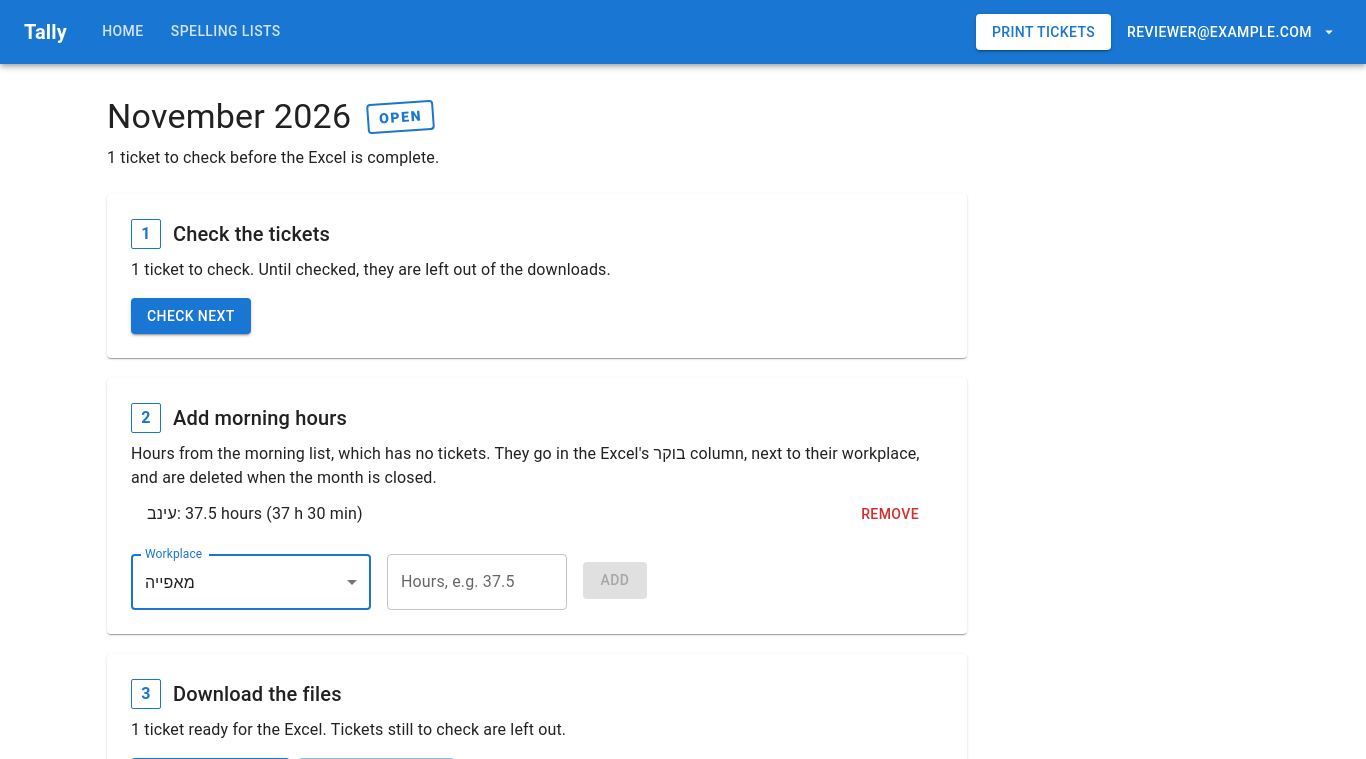
it: the month page › lists the morning hours, adds one for a place, and removes one (D66)
Earlier steps of the test are not shown.
Later steps or results of the test are not shown.
Click the button "Remove".
click(890, 514)  # box 853,496 -> 927,533
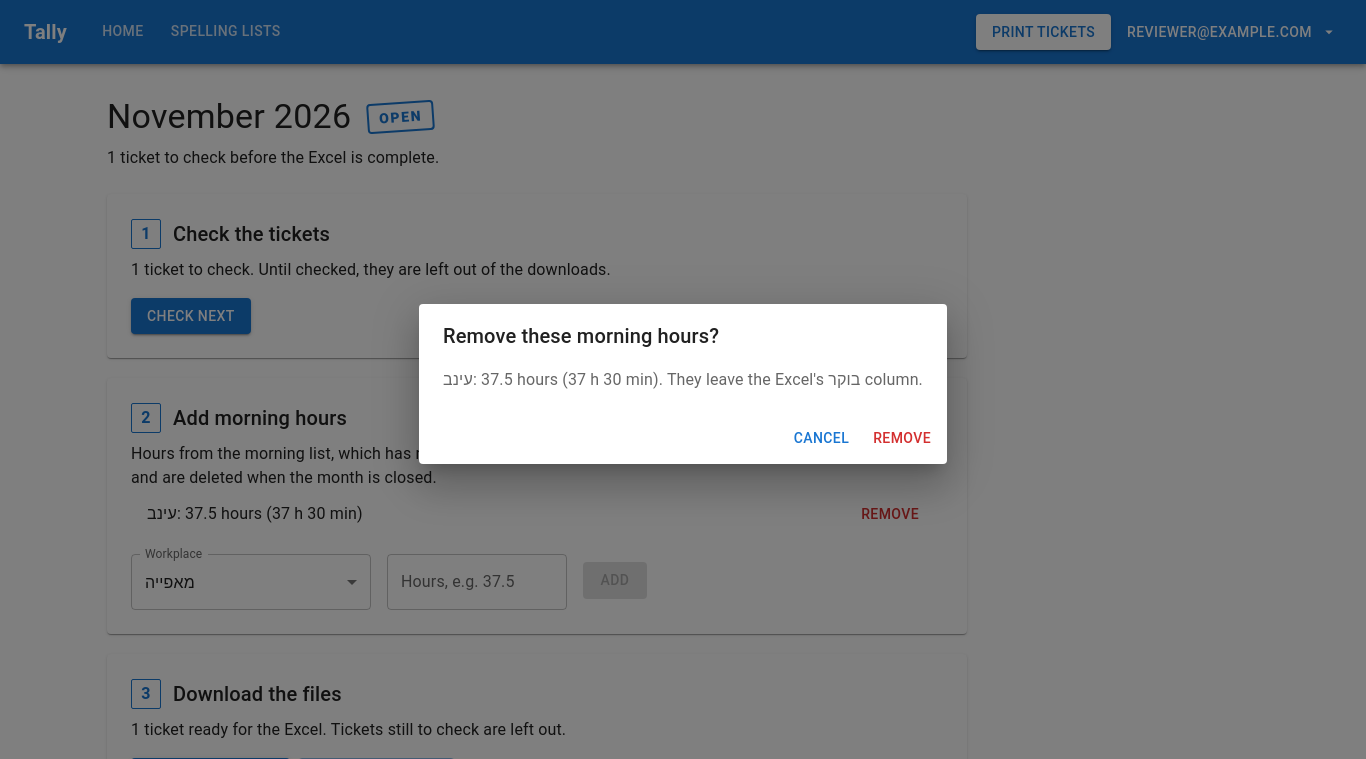
expect the text "Remove these morning hours?" is shown: met, box 443,324 -> 719,348
